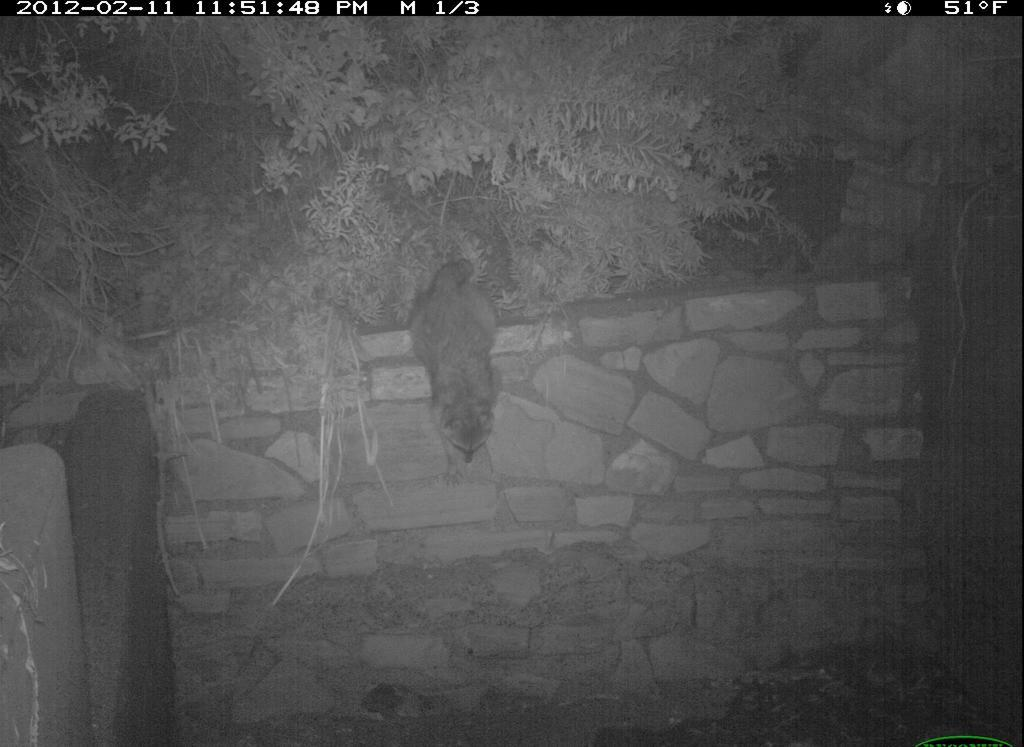raccoon: (393, 250, 547, 478)
